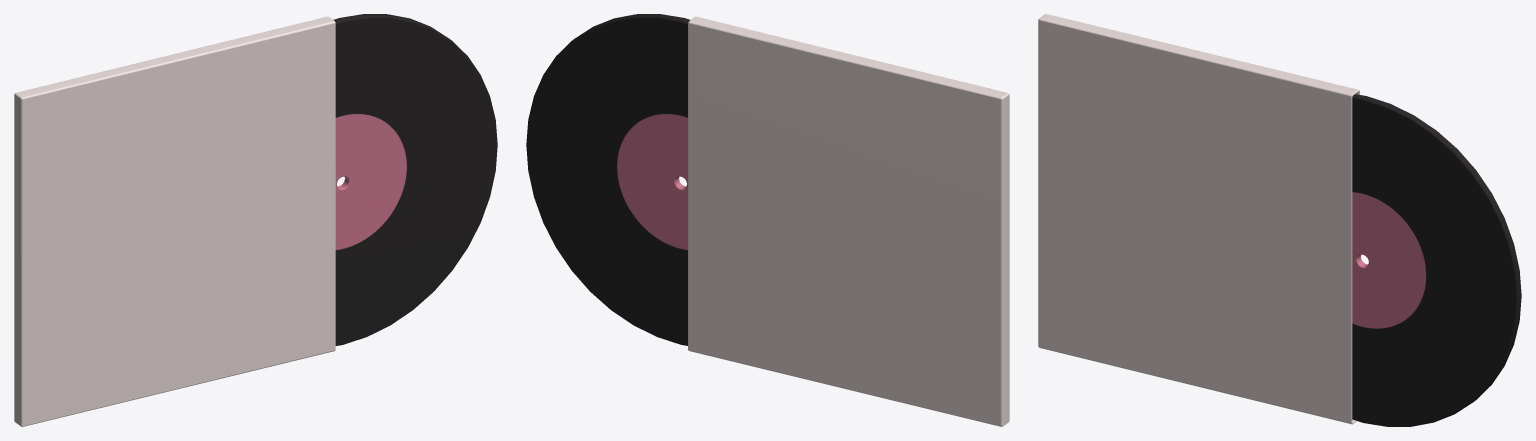
File: icons8_pink_vinyl_record_with_moсkup_cover.fbx
3 views of the same model, side by side, from view 1: azimuth 30°, elevation 25°; view 2: azimuth 150°, elevation 25°; view 3: azimuth 330°, elevation 25° (orthographic).
Parts seen in each view (by area): view 1: icons8_pink_vinyl_record_with_moсkup_cover; view 2: icons8_pink_vinyl_record_with_moсkup_cover; view 3: icons8_pink_vinyl_record_with_moсkup_cover.
Part boxes in pixels (bbox=[...]): icons8_pink_vinyl_record_with_moсkup_cover: bbox=[14, 14, 497, 426]; icons8_pink_vinyl_record_with_moсkup_cover: bbox=[526, 14, 1009, 426]; icons8_pink_vinyl_record_with_moсkup_cover: bbox=[1038, 14, 1521, 426].
Size of the model in its own units: 303 by 200 by 9.
